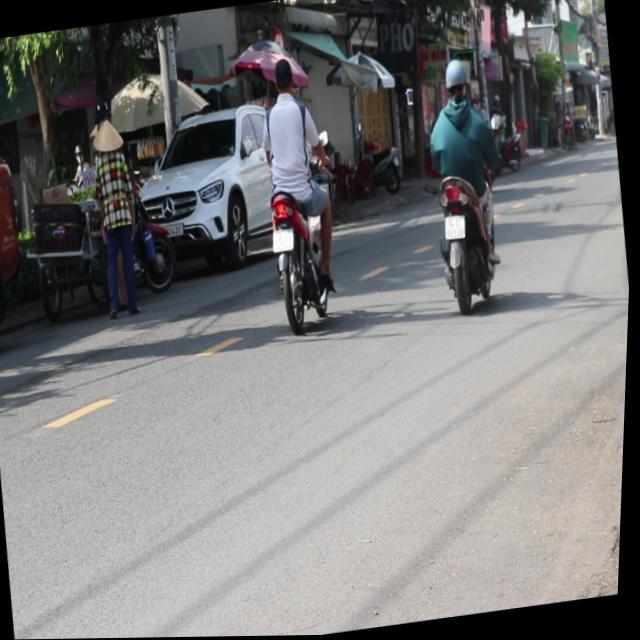helmet: (438, 56, 471, 104), (284, 54, 310, 102)
licenseplate: (242, 48, 352, 333), (411, 52, 518, 315)
motorcyclist: (269, 54, 296, 98)
nohelmet: (271, 226, 296, 252), (443, 214, 467, 240)
